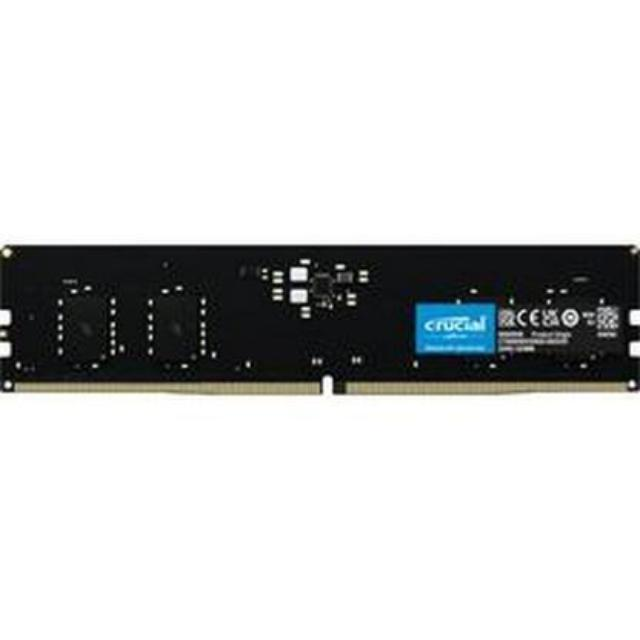RAM: (0, 238, 640, 398)
